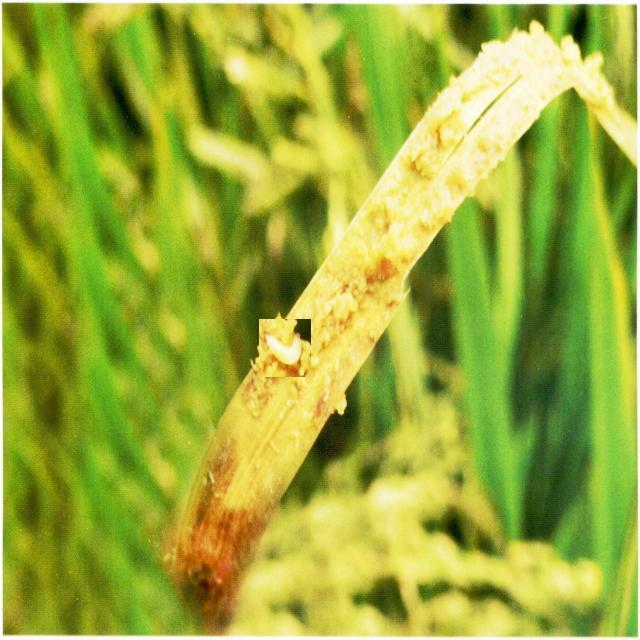whorl-maggot: (259, 319, 311, 377)
